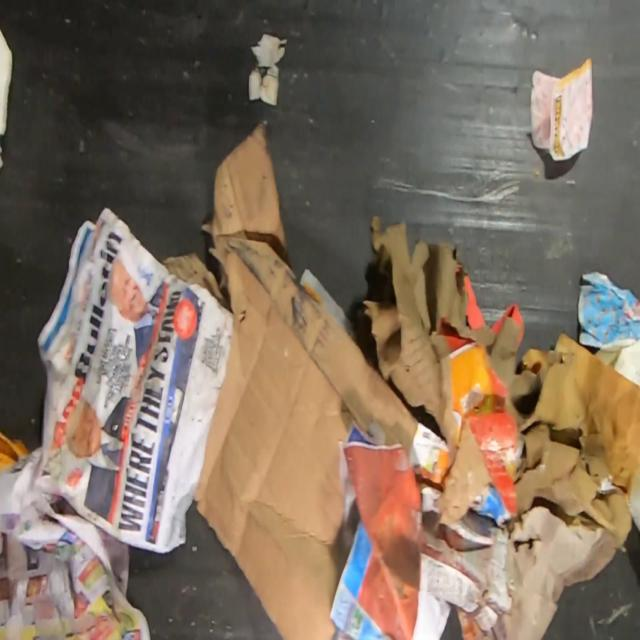cardboard: (162, 121, 419, 640), (351, 215, 640, 640)
